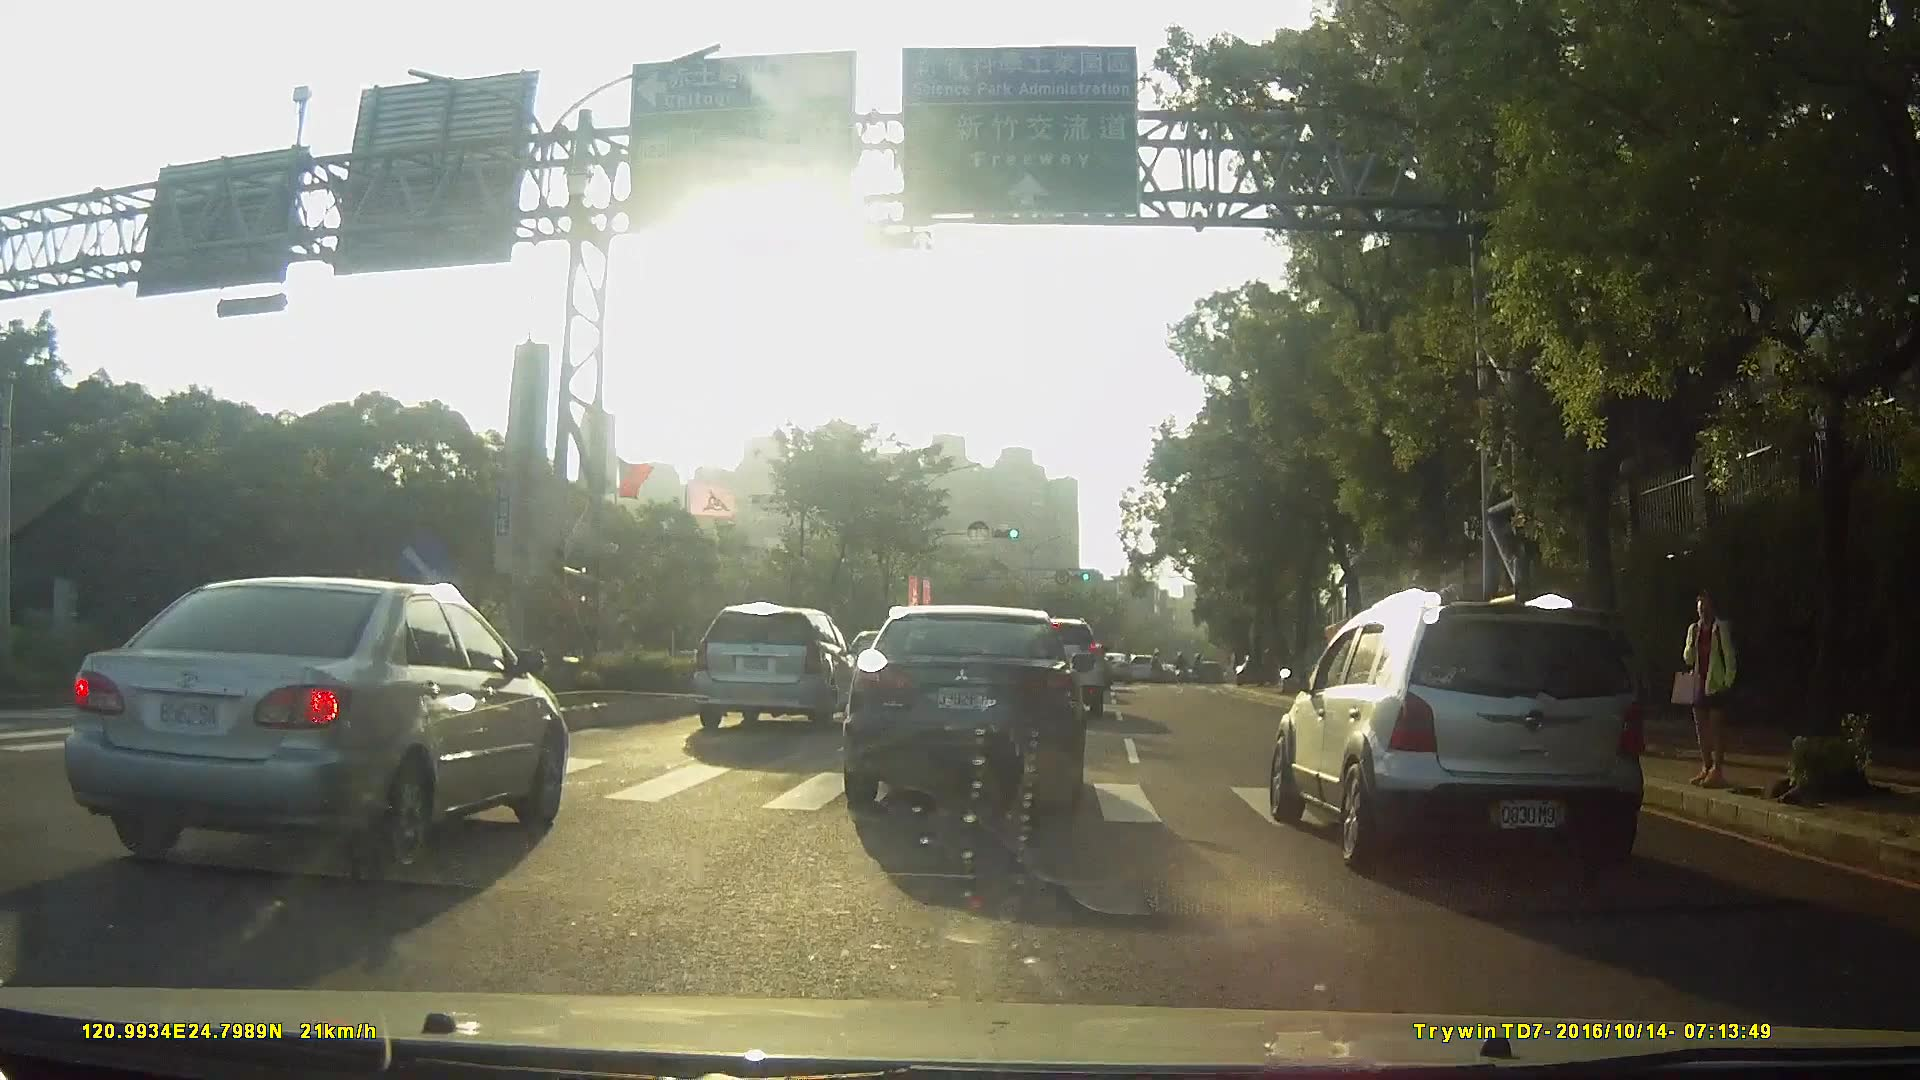pedestrian: (1666, 586, 1743, 792)
vehicle: (37, 567, 579, 882), (1253, 581, 1669, 880), (848, 594, 1109, 807), (682, 602, 858, 732), (1095, 648, 1129, 680), (1121, 649, 1154, 678)
